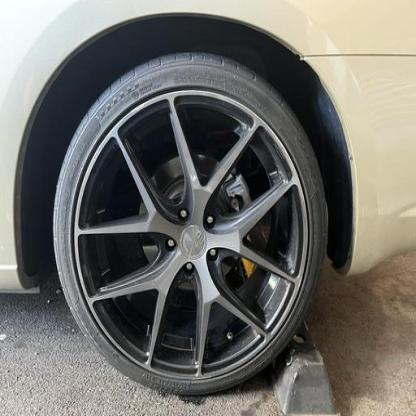Tire: (51, 48, 327, 397)
